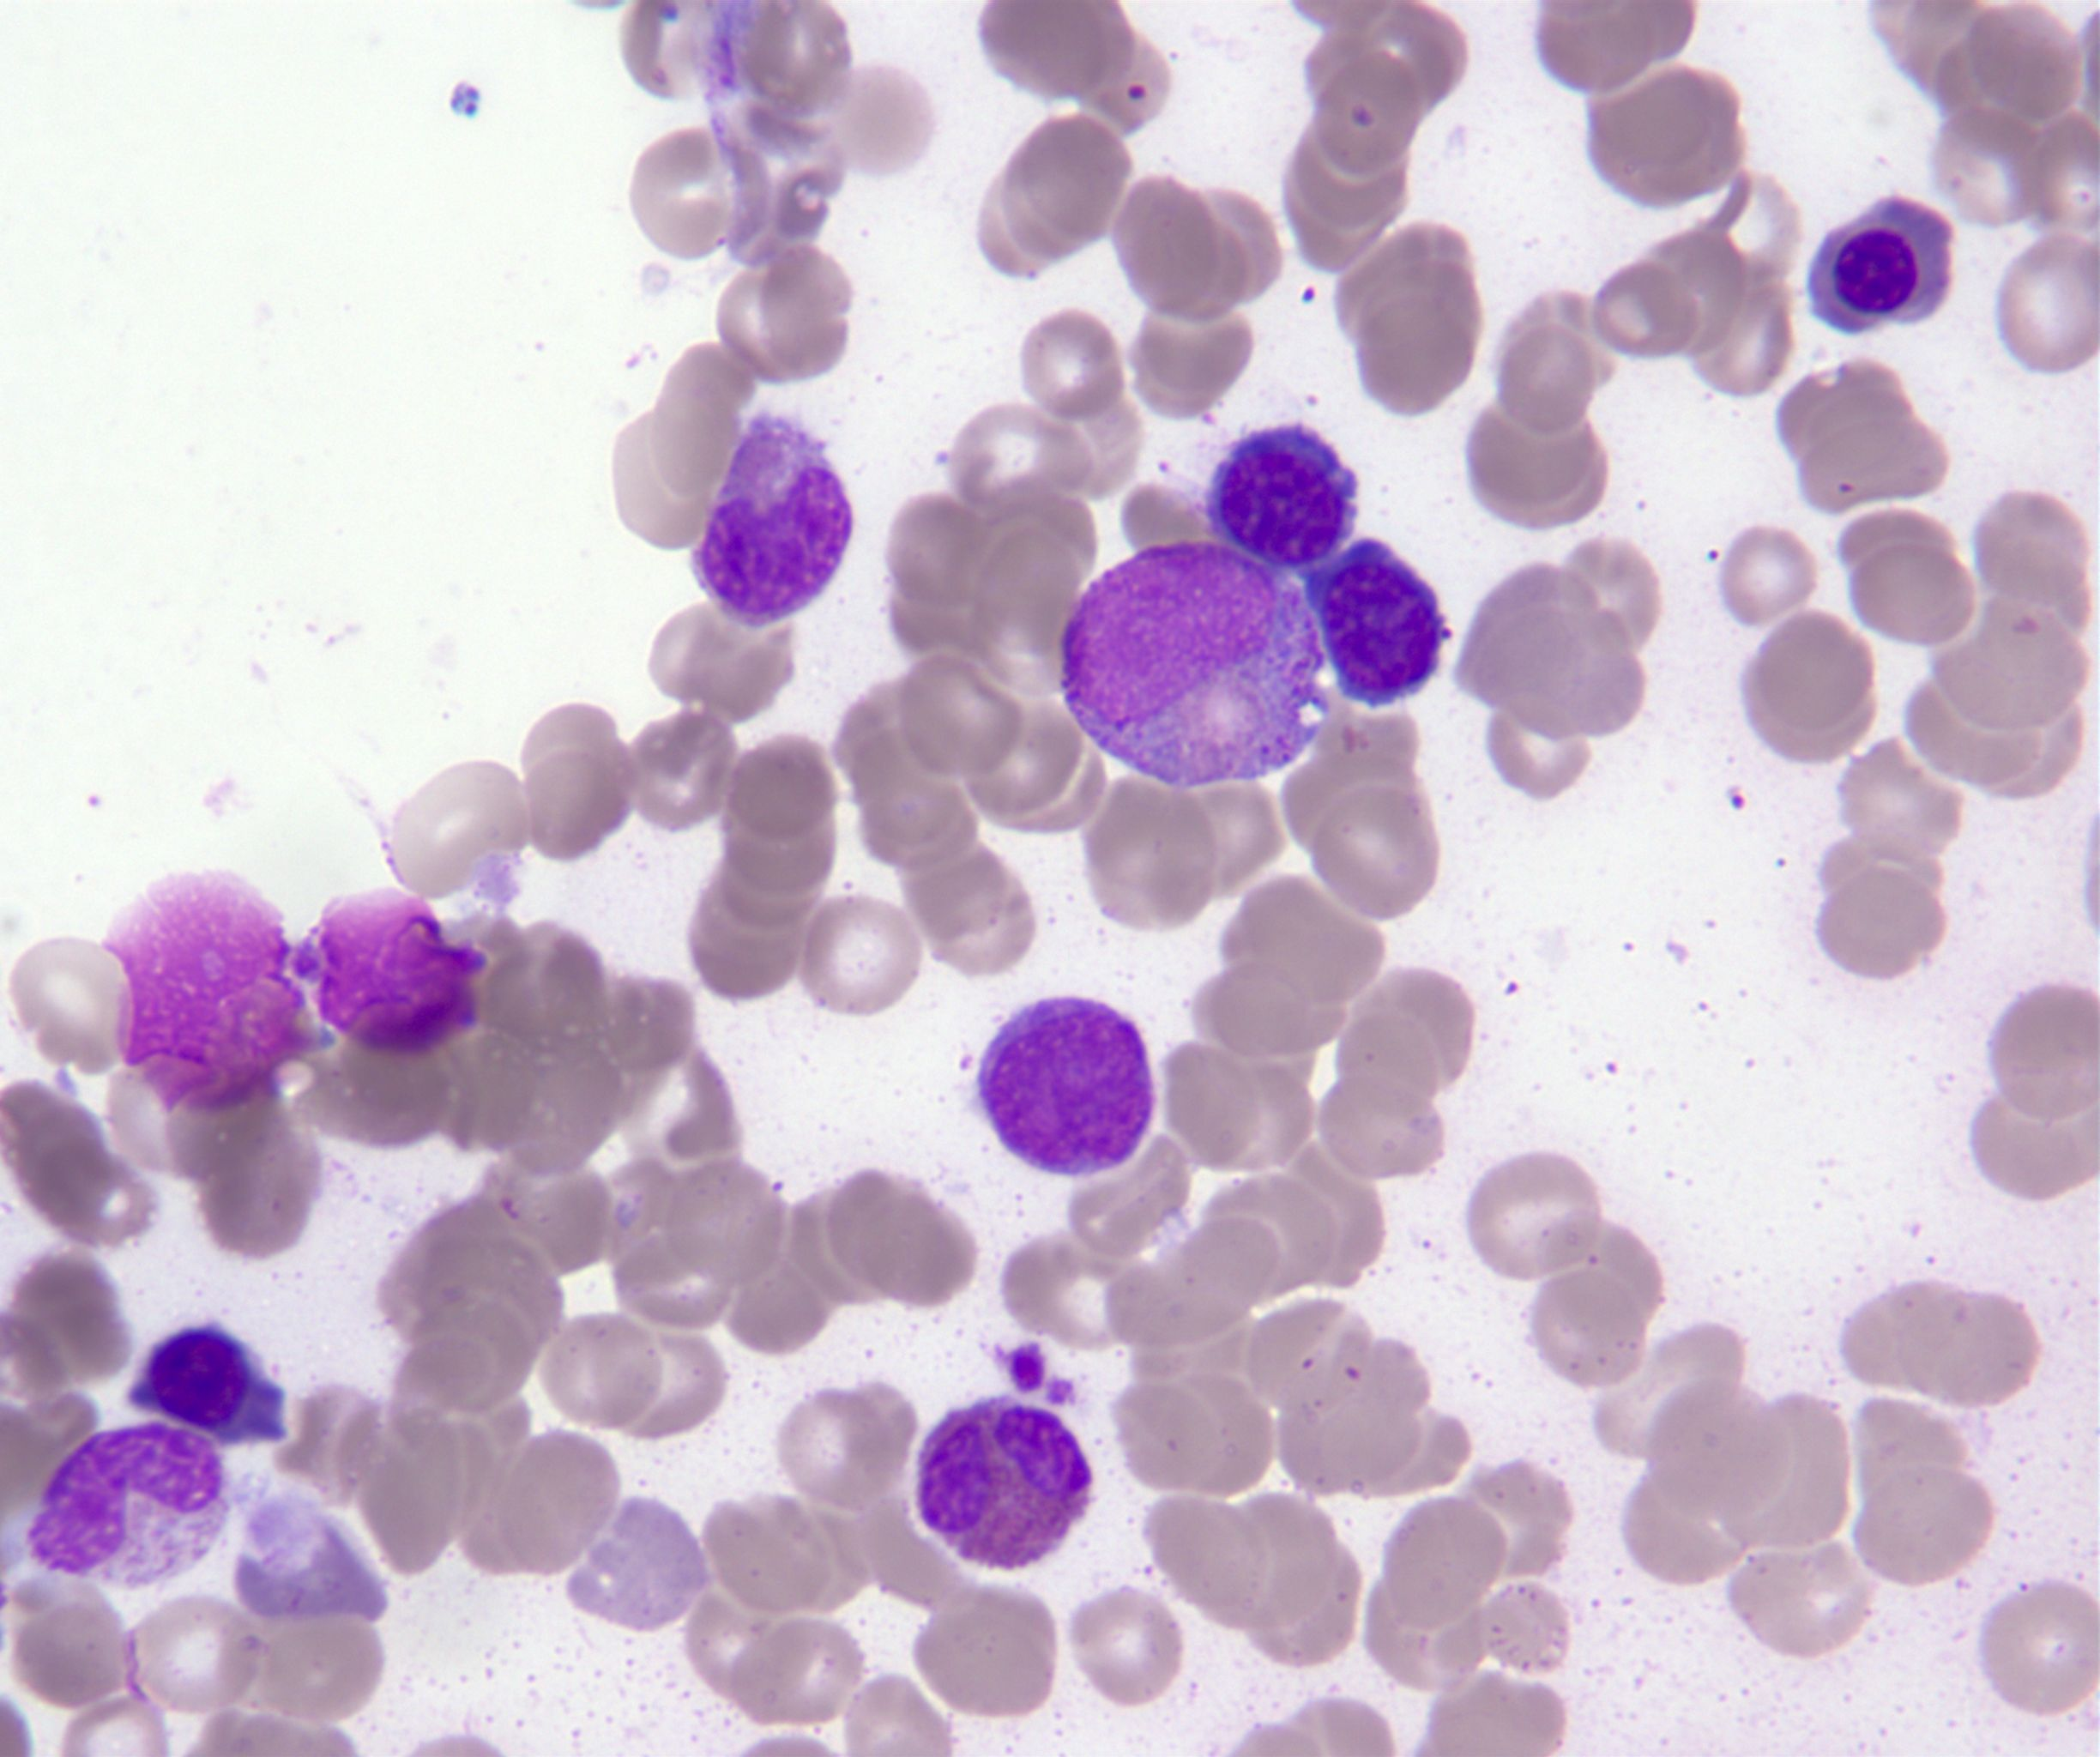22: (1303, 537, 1449, 708), (1210, 424, 1357, 569)
23: (1807, 194, 1955, 333), (127, 1321, 286, 1443)
3: (1060, 539, 1326, 787)
4: (689, 414, 853, 630)
42: (978, 996, 1155, 1174)
5: (28, 1424, 228, 1588)
E4: (916, 1396, 1092, 1569)
x: (103, 876, 331, 1115), (290, 892, 488, 1054)
